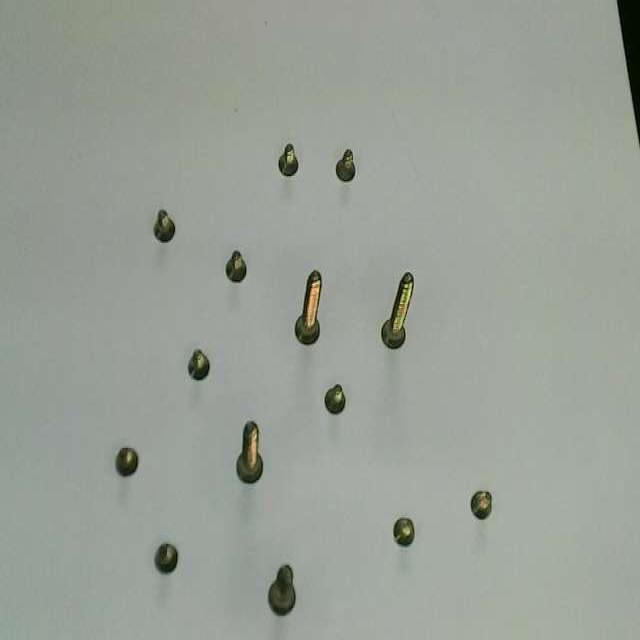Parafuso: (382, 272, 413, 349), (295, 271, 321, 345), (236, 422, 262, 483), (268, 566, 295, 615), (278, 143, 298, 177), (115, 447, 137, 477), (155, 543, 177, 573), (225, 251, 246, 282), (188, 350, 209, 381), (154, 210, 174, 242), (336, 150, 355, 182), (325, 384, 345, 414), (393, 518, 414, 546), (470, 491, 491, 519)
